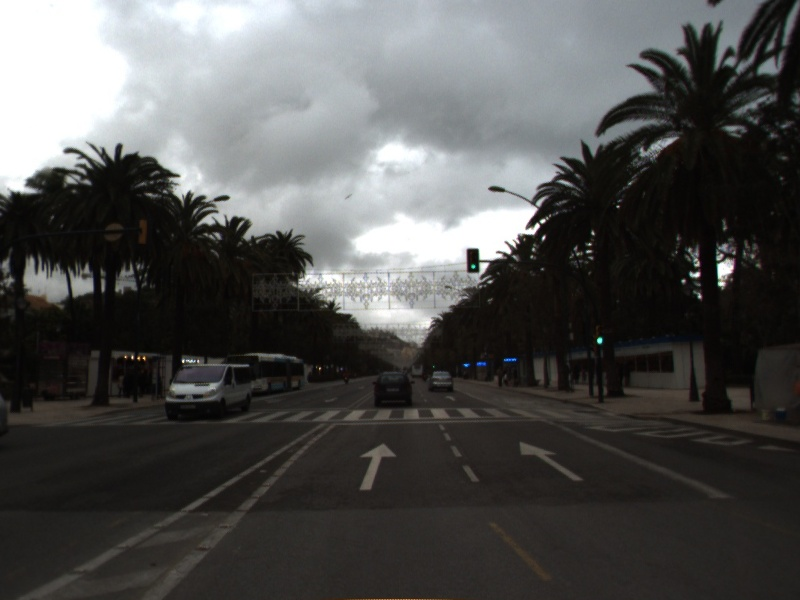STRAIGHT: (518, 440, 586, 483), (356, 441, 399, 492), (443, 393, 458, 403)
